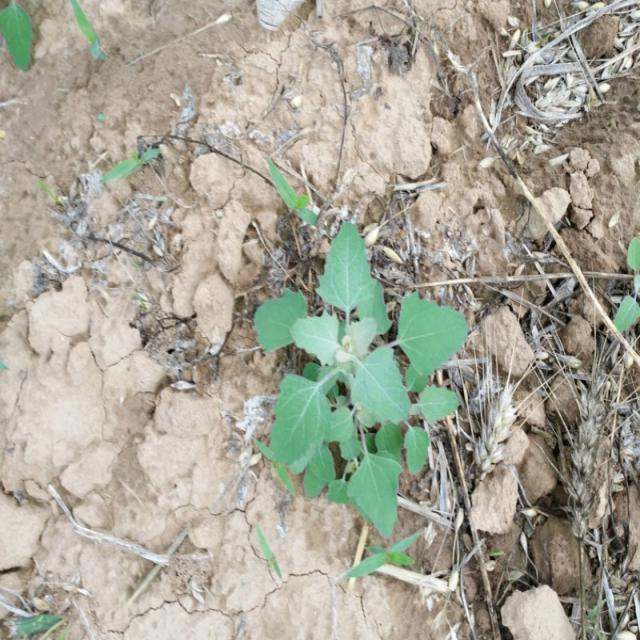goosefoots: (255, 235, 444, 538)
